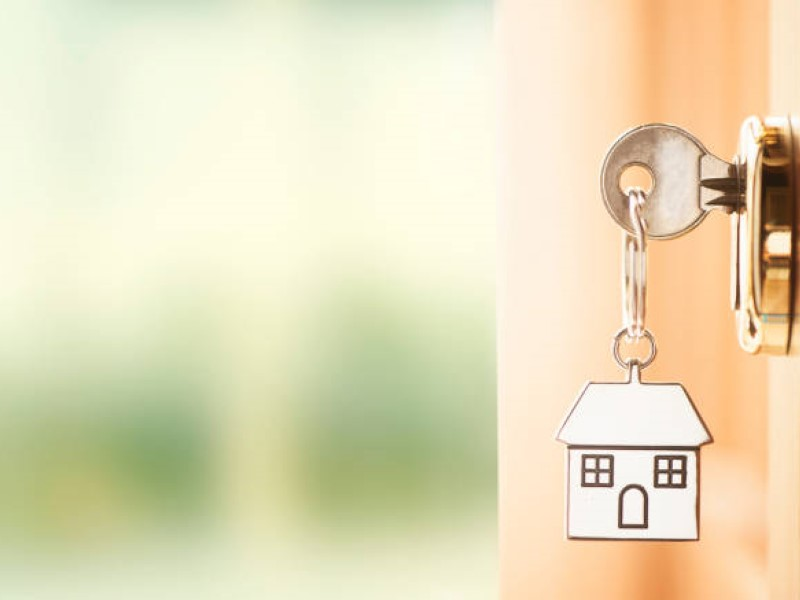key: (590, 124, 752, 245)
